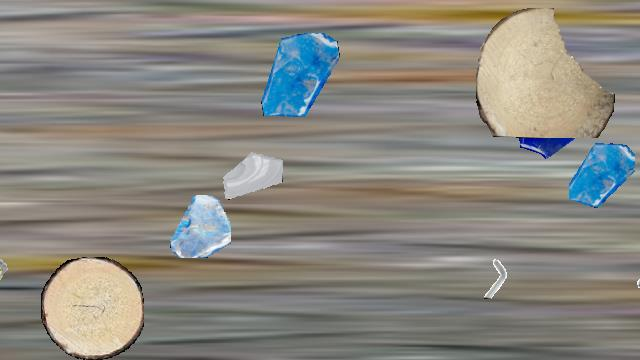glass: (258, 33, 342, 117), (508, 78, 590, 160), (569, 142, 635, 208), (168, 195, 230, 257), (222, 140, 282, 200)
metal: (474, 257, 516, 299), (0, 255, 18, 295), (629, 247, 640, 297)
wood: (476, 8, 614, 138), (41, 257, 143, 359)
